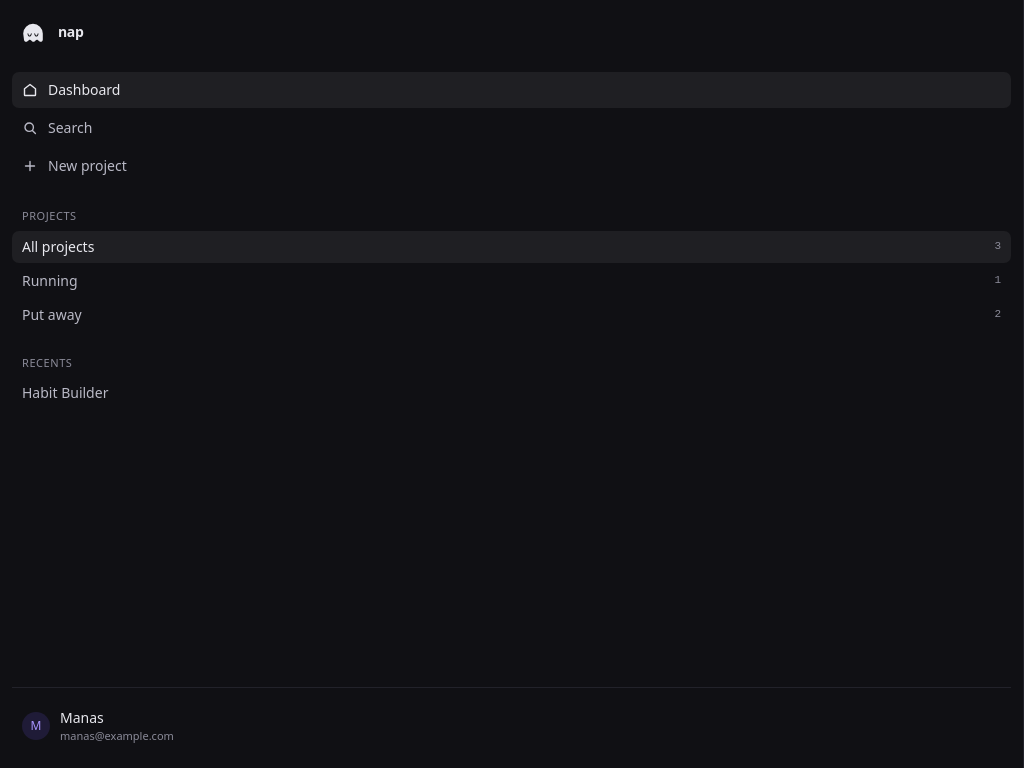
the dashboard sidebar › closes on Escape and gives focus back to the name
Click the button "M Manas manas@example.com" at coordinates (82, 717), box [12,700,1011,752]
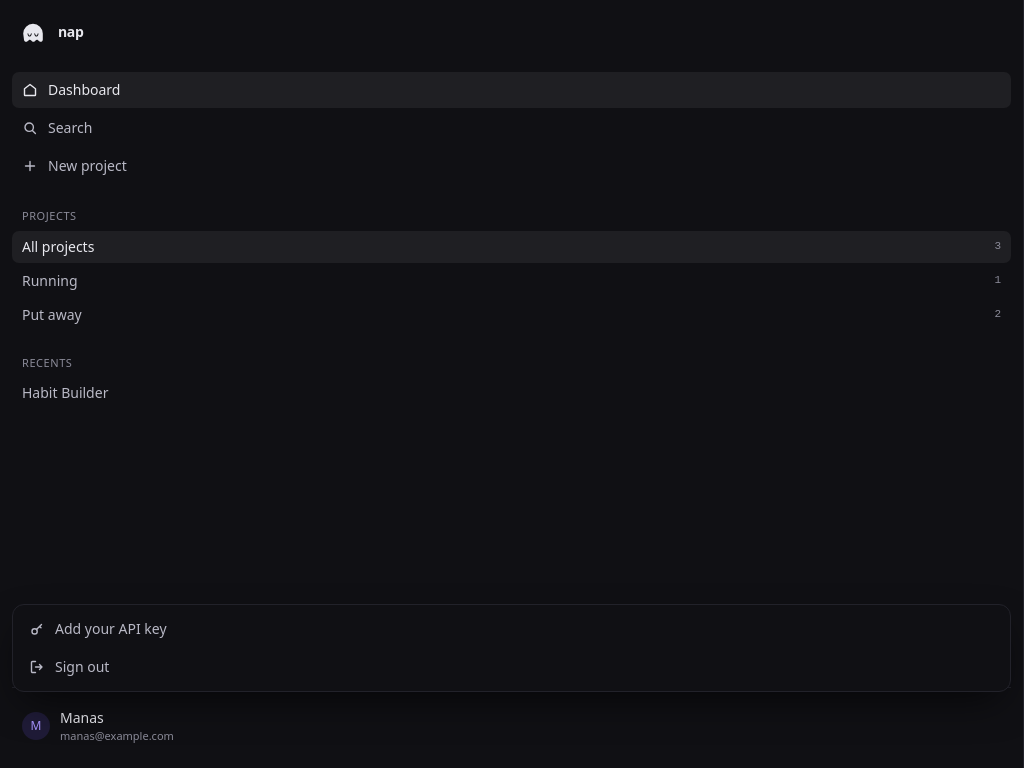
Press Escape in the menu, box [12,604,1011,700]
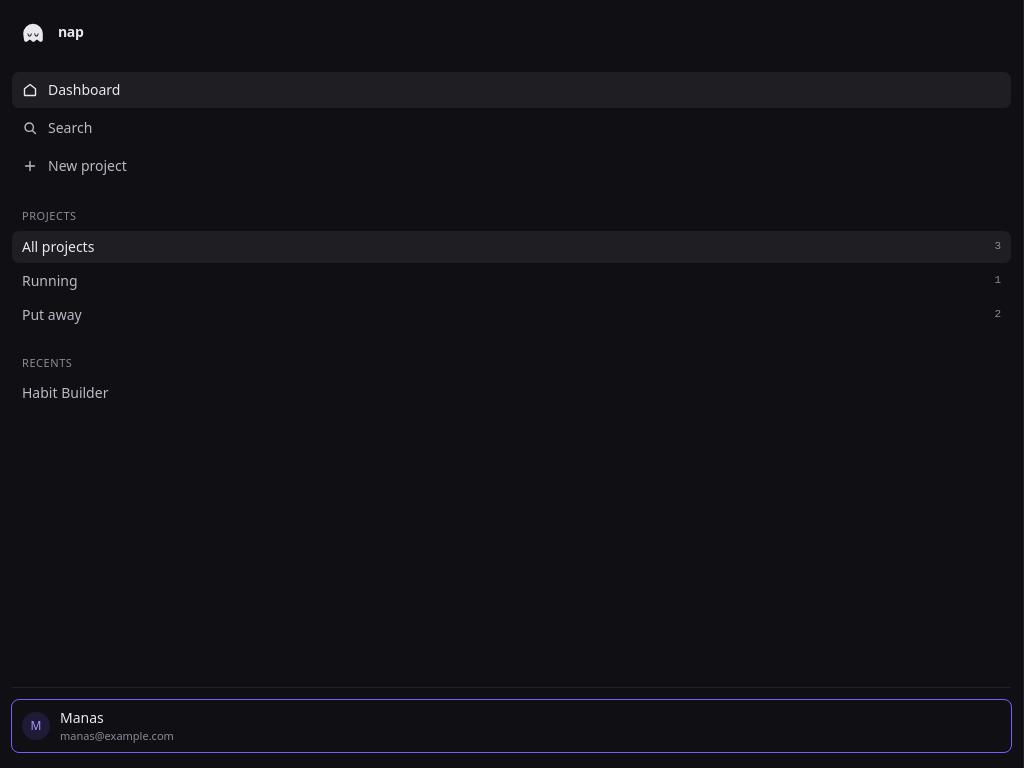
Check: the menu is gone
